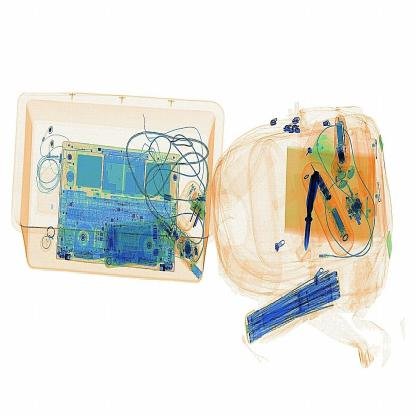gun: (295, 154, 319, 262)
